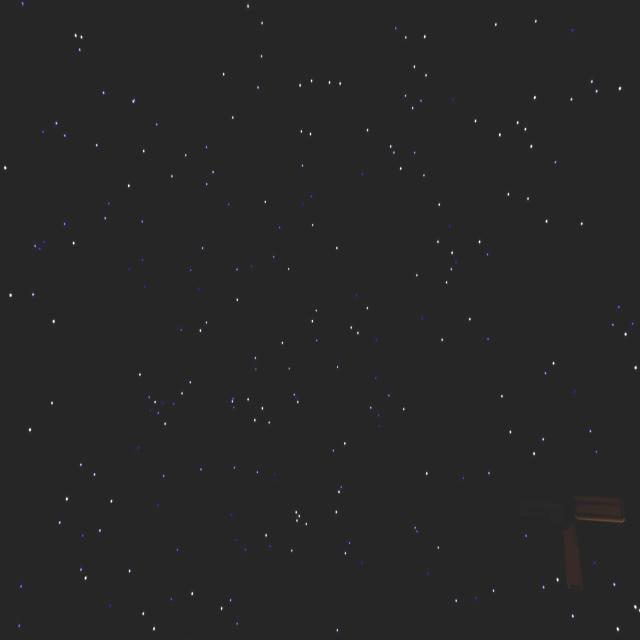satellite: (560, 478, 629, 593)
